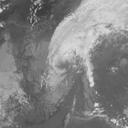cyclone: (49, 32, 94, 95)
